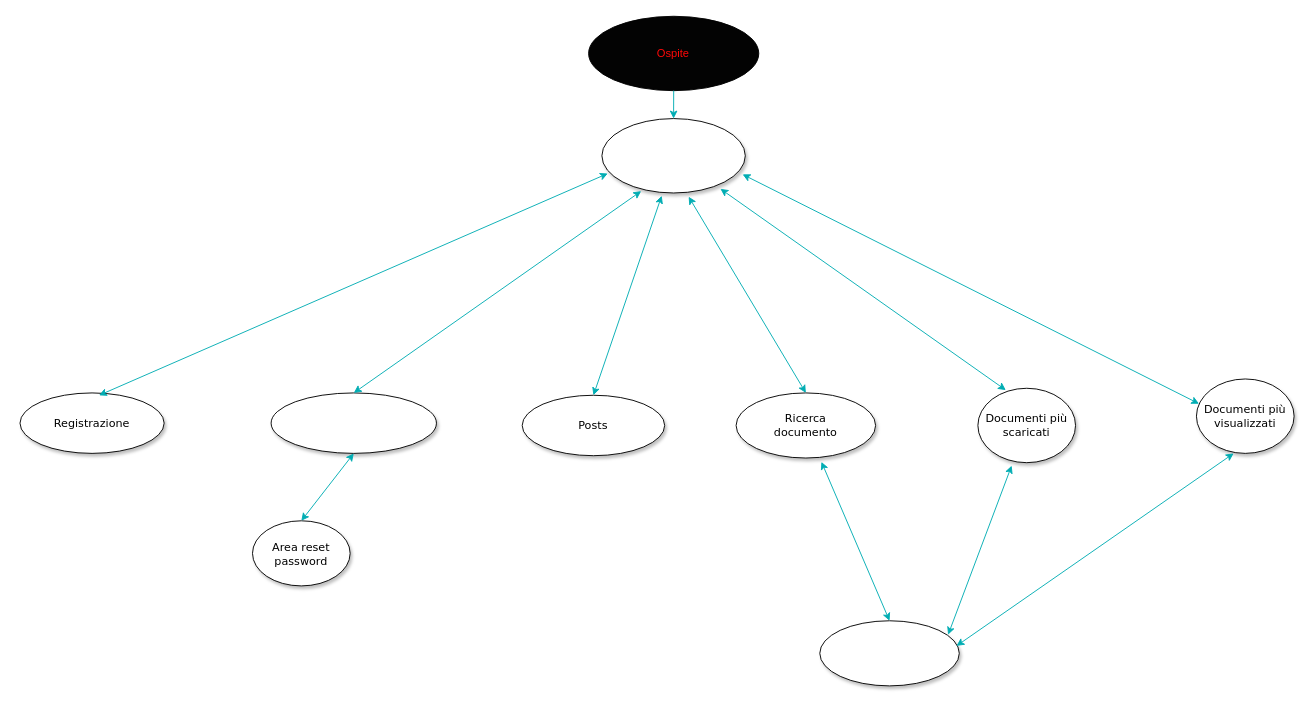
This 1316x709 diagram has some shape labels left out. Here are the shapes that lost their labels. From the top down, the centre of each, then its label:
At point (674, 156): "Homepage".
At point (354, 424): "Login".
At point (890, 654): "Documento".
